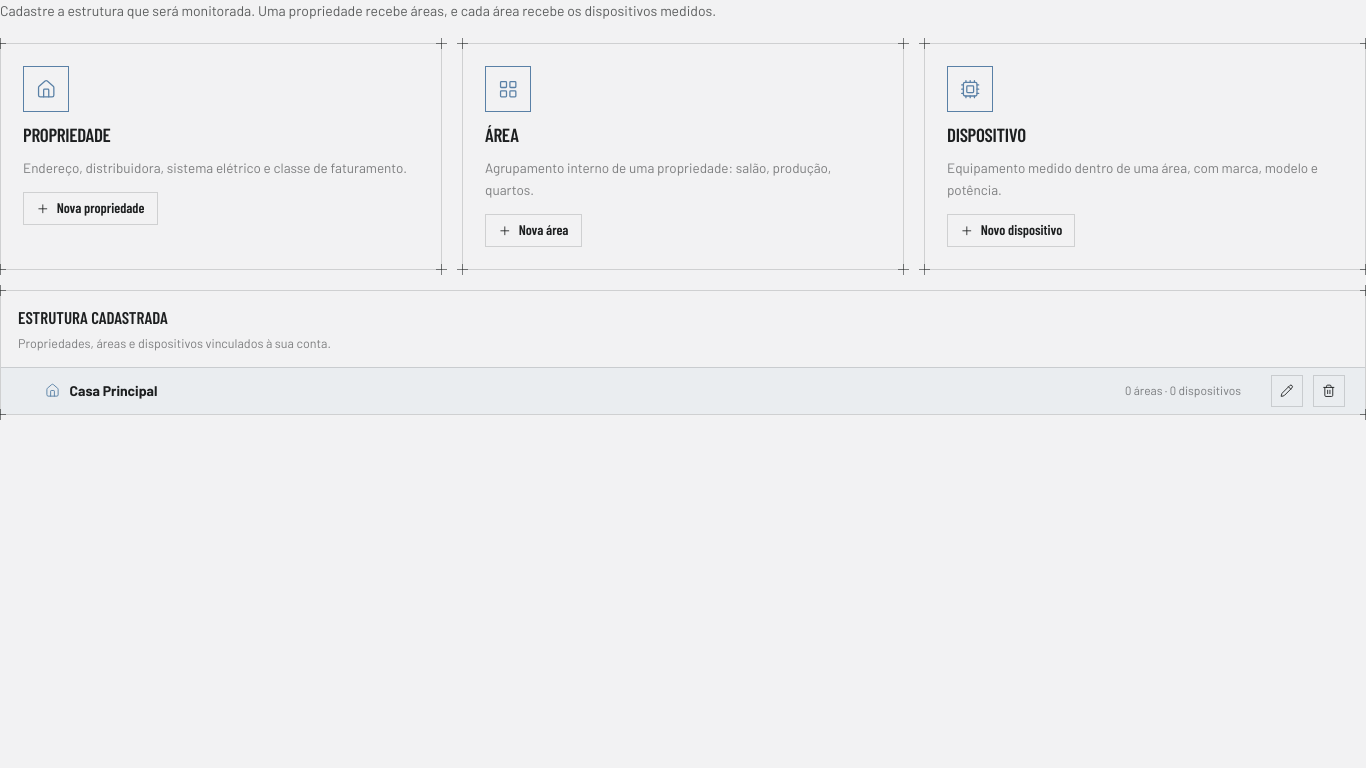
Test case: RegistrationPage — com propriedades cadastradas › abre o modal de área com o seletor de propriedade alimentado pela árvore
The width and height of the screenshot is (1366, 768).
Expected: the heading "Área" is shown, top-left (485, 124), bottom-right (519, 145)
Click the button "Nova área".
click(533, 230)  # box top-left (485, 214), bottom-right (582, 247)
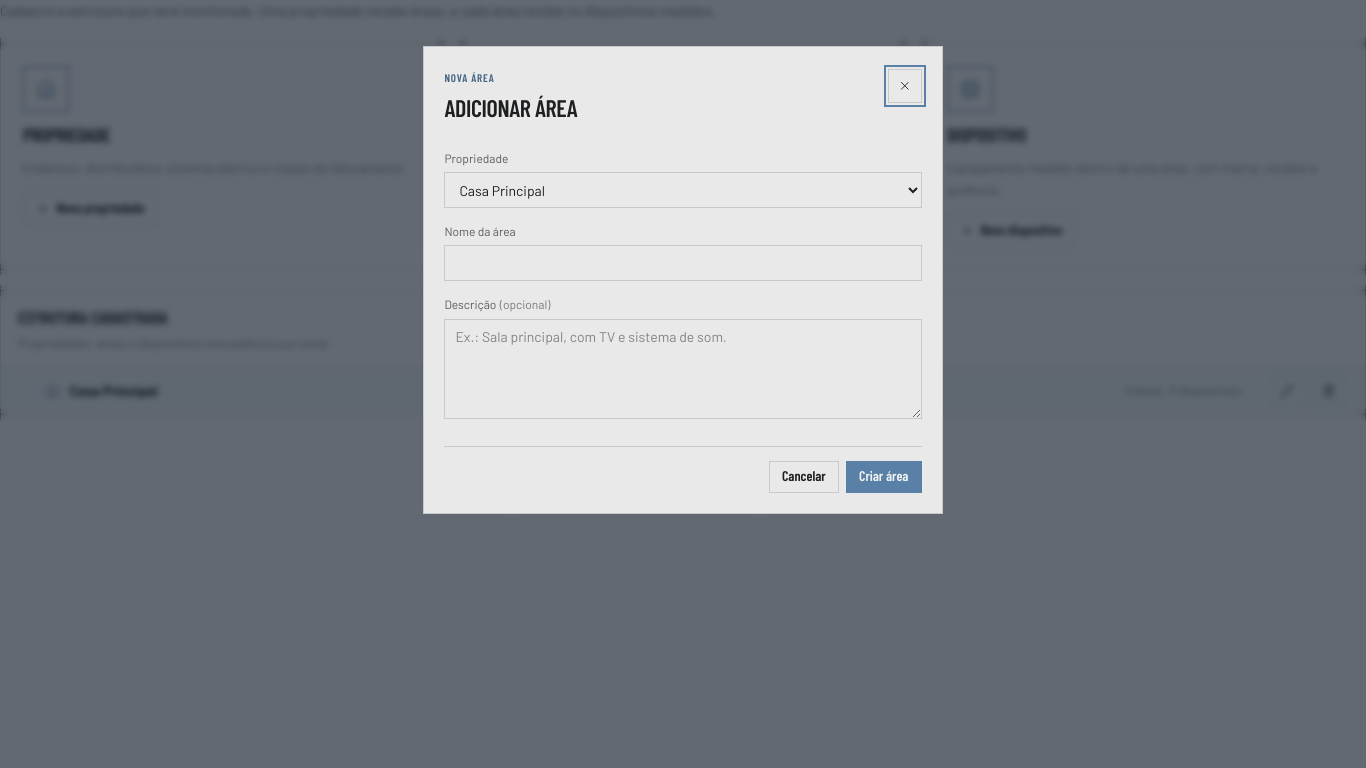
Now the dialog "Adicionar área" is shown, box top-left (423, 46), bottom-right (943, 514)
Now the dropdown labelled "Propriedade" shows "Casa Principal", box top-left (444, 172), bottom-right (922, 208)
